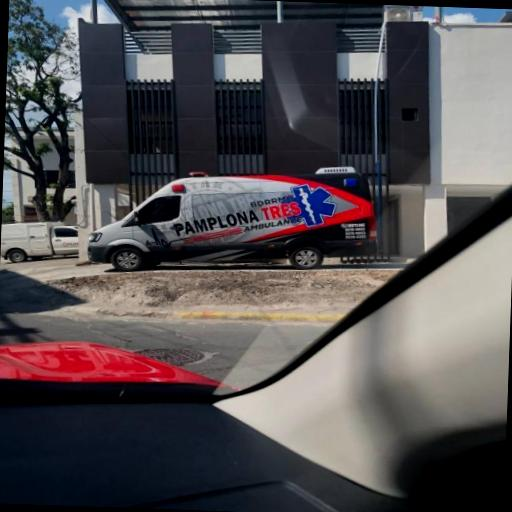Police car: (87, 162, 377, 272)
